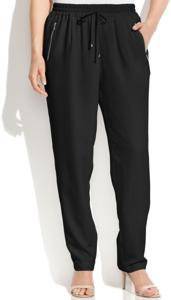C_W_pants: (33, 1, 156, 276)
C_sandals: (69, 262, 162, 300)
